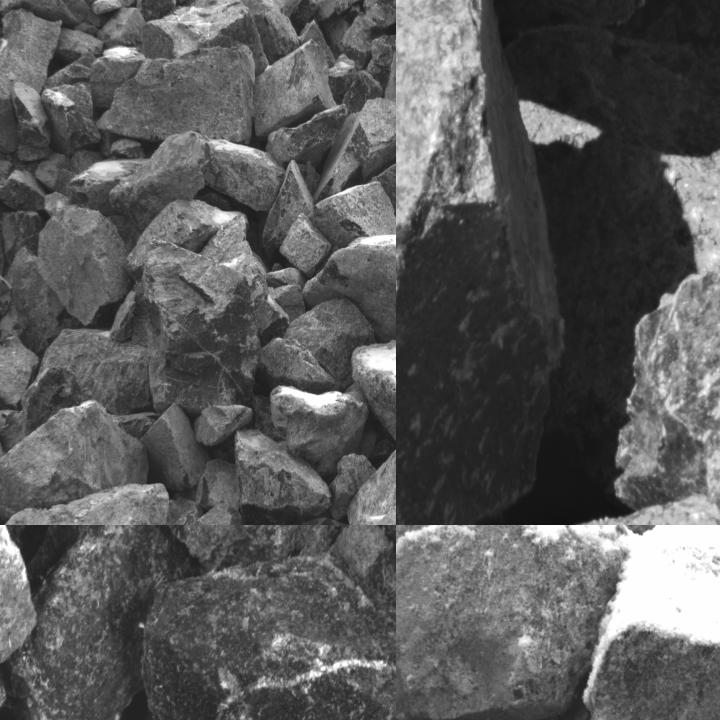stone: (396, 0, 549, 524), (396, 525, 630, 719), (144, 554, 395, 719), (0, 525, 205, 719), (600, 273, 719, 524), (585, 525, 719, 719), (143, 247, 260, 414), (0, 402, 147, 520), (96, 44, 256, 144), (652, 107, 719, 313), (256, 298, 378, 393), (38, 204, 131, 326), (141, 0, 271, 77), (112, 133, 212, 233), (127, 201, 248, 281), (311, 229, 395, 344), (235, 430, 334, 524), (41, 330, 146, 417), (310, 100, 395, 206), (273, 384, 367, 478), (253, 41, 336, 138), (0, 484, 168, 524), (204, 137, 284, 212), (0, 9, 64, 99), (260, 104, 346, 170), (313, 181, 395, 250), (43, 54, 100, 153), (261, 158, 313, 264), (147, 404, 208, 494), (352, 332, 395, 440), (346, 449, 395, 524), (279, 214, 333, 280), (0, 336, 42, 411), (192, 405, 253, 452), (0, 0, 92, 27), (0, 158, 10, 368), (371, 137, 395, 219), (315, 0, 369, 25)
